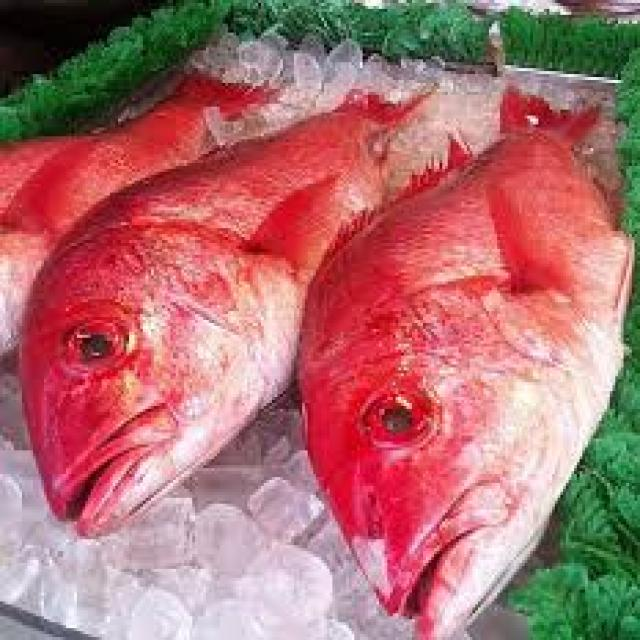northern-red-snapper: (301, 70, 640, 640), (22, 70, 397, 544), (0, 64, 301, 350)
